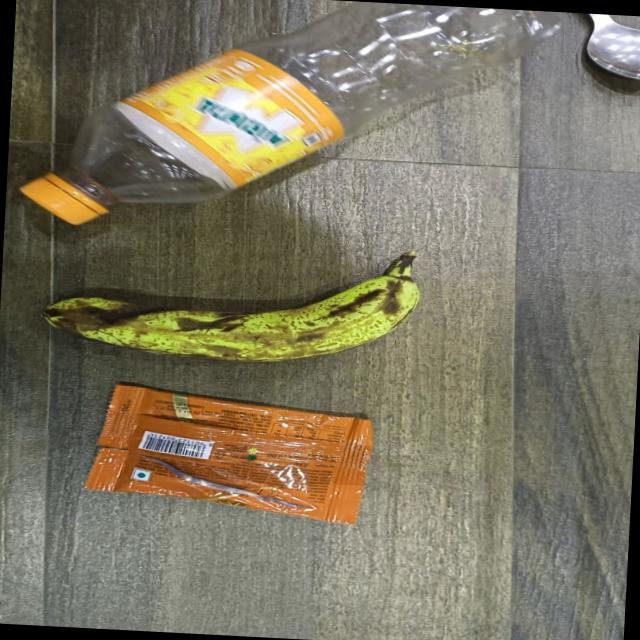Banana-Bio: (28, 230, 436, 381)
Plastic-NonBio: (22, 0, 558, 256), (88, 377, 379, 528)
